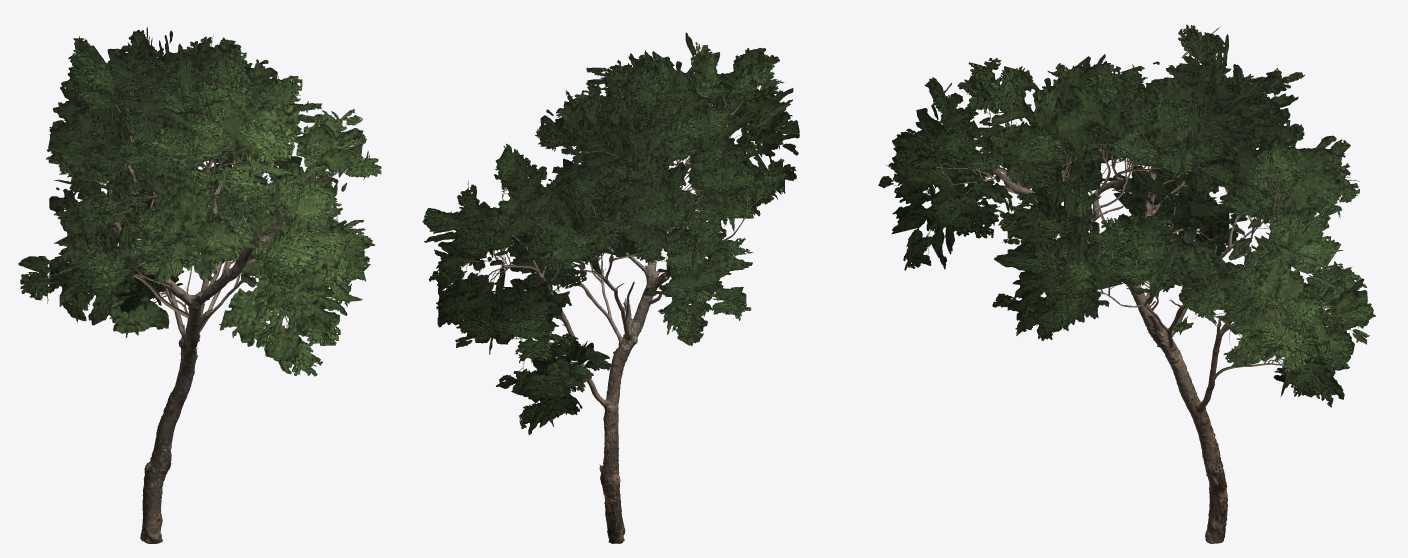
Rendered from tree.gltf.
3 views of the same model, side by side, from view 1: azimuth 30°, elevation 25°; view 2: azimuth 150°, elevation 25°; view 3: azimuth 270°, elevation 25° (orthographic). The views are drawn at different scales.
Visible parts, largest first — view 1: broadleaf_small, broadleaf_small_far; view 2: broadleaf_small, broadleaf_small_far; view 3: broadleaf_small, broadleaf_small_far.
Part boxes in pixels (box(x1,y1,x2,y2)): broadleaf_small: box(20, 27, 381, 543); broadleaf_small_far: box(18, 30, 374, 363); broadleaf_small: box(422, 42, 799, 543); broadleaf_small_far: box(424, 32, 799, 434); broadleaf_small: box(878, 24, 1372, 543); broadleaf_small_far: box(891, 34, 1375, 399).
Size of the model in its own units: 3.28 by 4.71 by 4.51.
3 materials, 3 textured.
